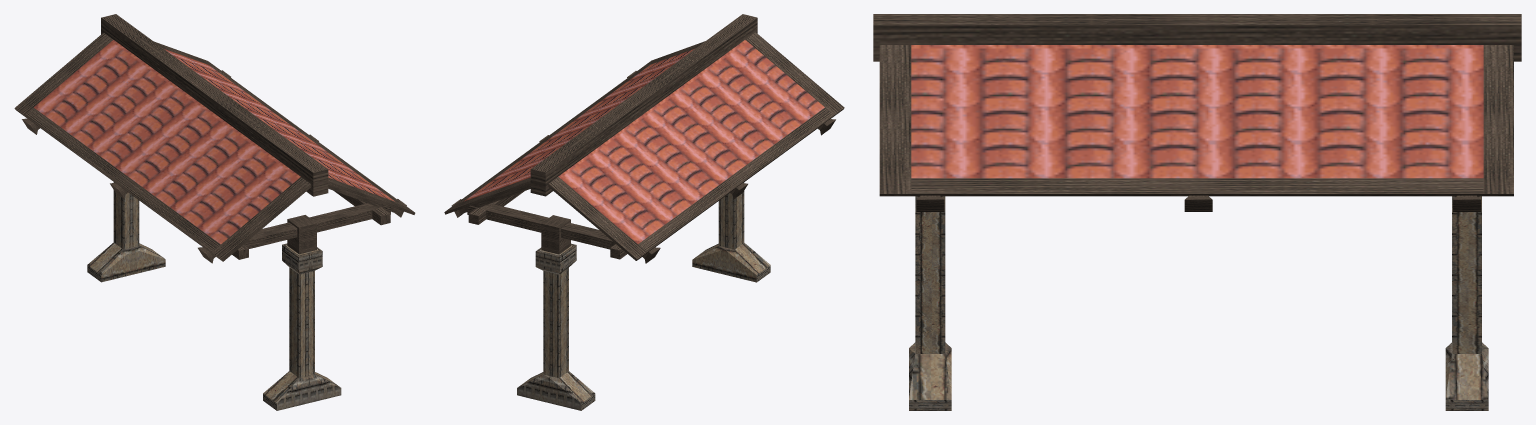
File: coberturaentrada.fbx
The picture shows the model from 3 angles, left to right: view 1: azimuth 30°, elevation 25°; view 2: azimuth 150°, elevation 25°; view 3: azimuth 270°, elevation 25°; orthographic projection. The views are drawn at different scales.
Parts seen in each view (by area): view 1: Cube; view 2: Cube; view 3: Cube.
Part boxes in pixels (<box>): Cube: <box>14,14,415,410</box>; Cube: <box>444,14,844,410</box>; Cube: <box>873,14,1521,410</box>.
Size of the model in its own units: 3.07 by 3.52 by 5.64.
